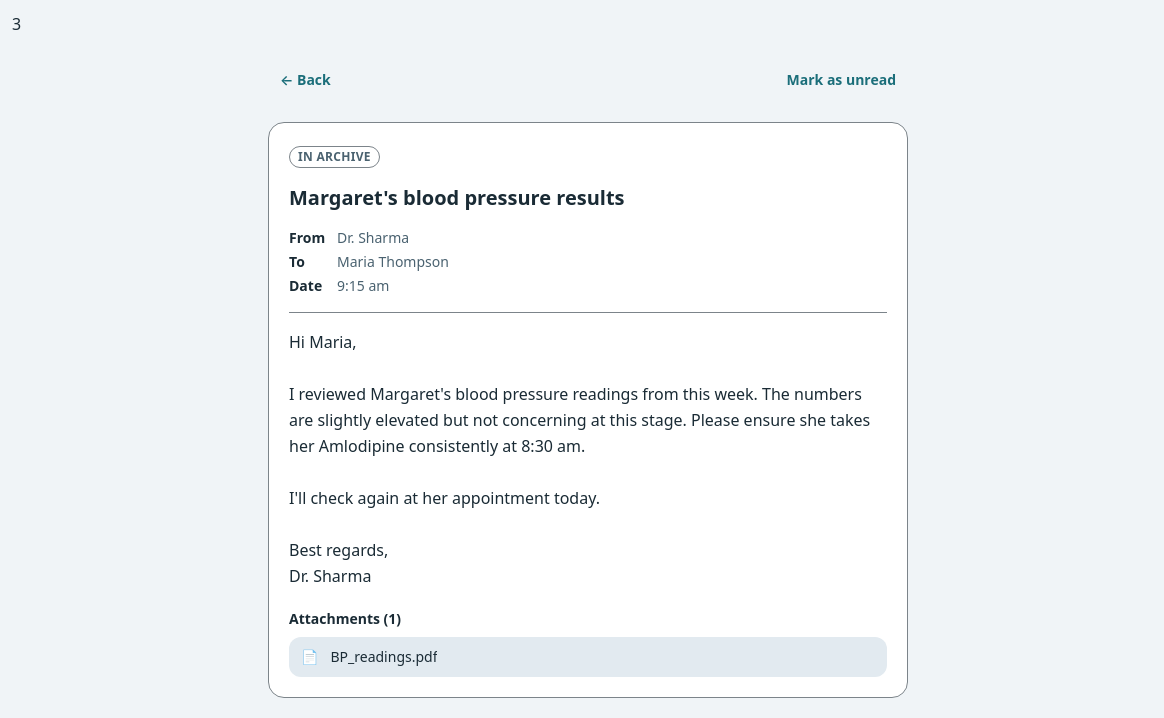
Test case: MessagesPage › opening an archived message directly selects the Archive folder
Click the button with aria-label "back to archived messages".
click(305, 80)  # box [268, 58, 343, 102]
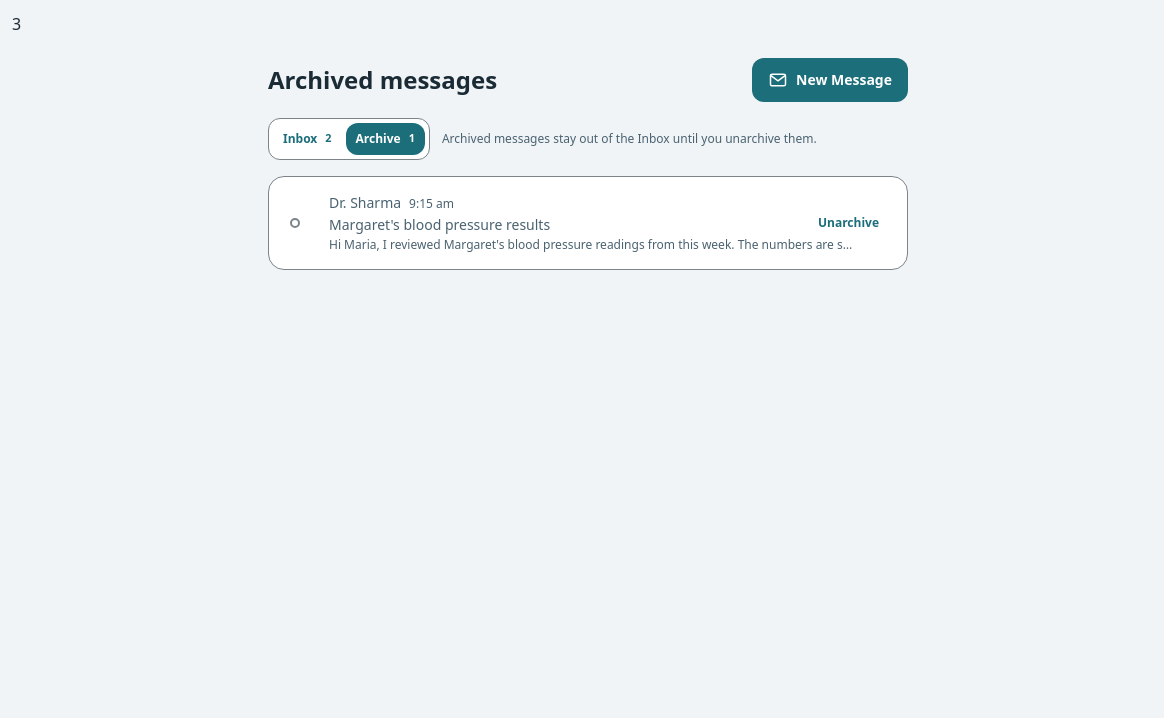
Now the heading "Archived messages" is shown, box [268, 64, 497, 96]
